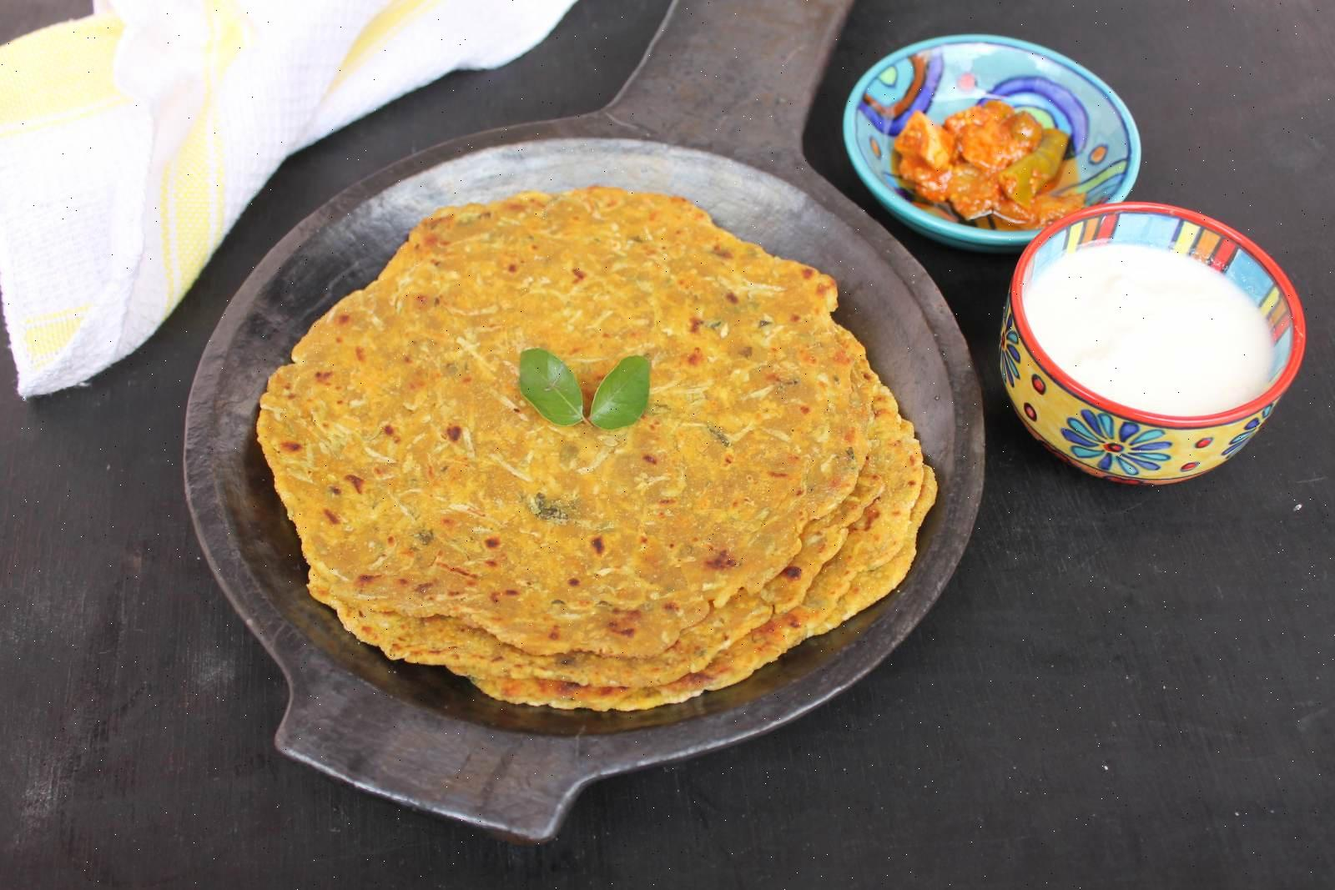yogurt: (1054, 244, 1252, 434)
